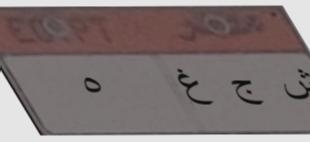5: (79, 69, 107, 99)
ghayn: (172, 61, 215, 111)
jeem: (225, 73, 264, 113)
sheen: (278, 61, 310, 103)
